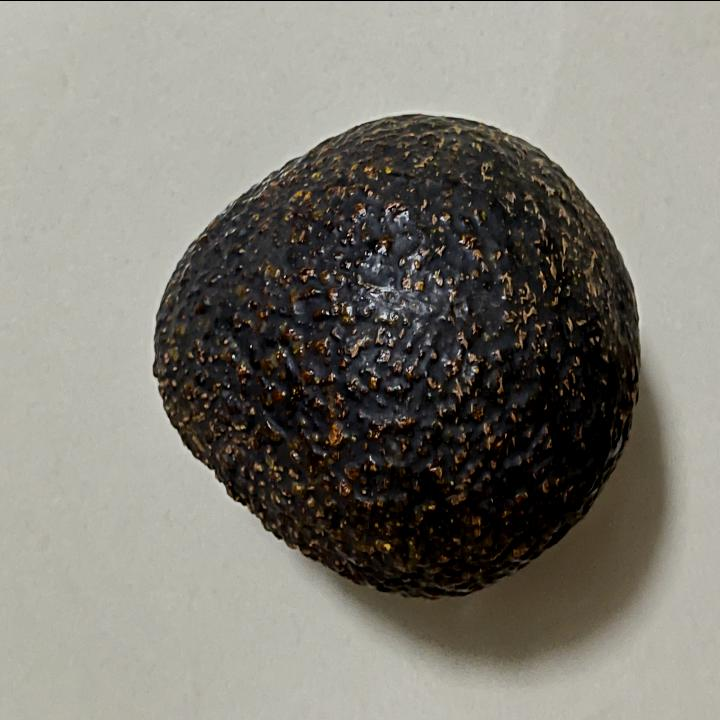Level1: (142, 100, 656, 610)
